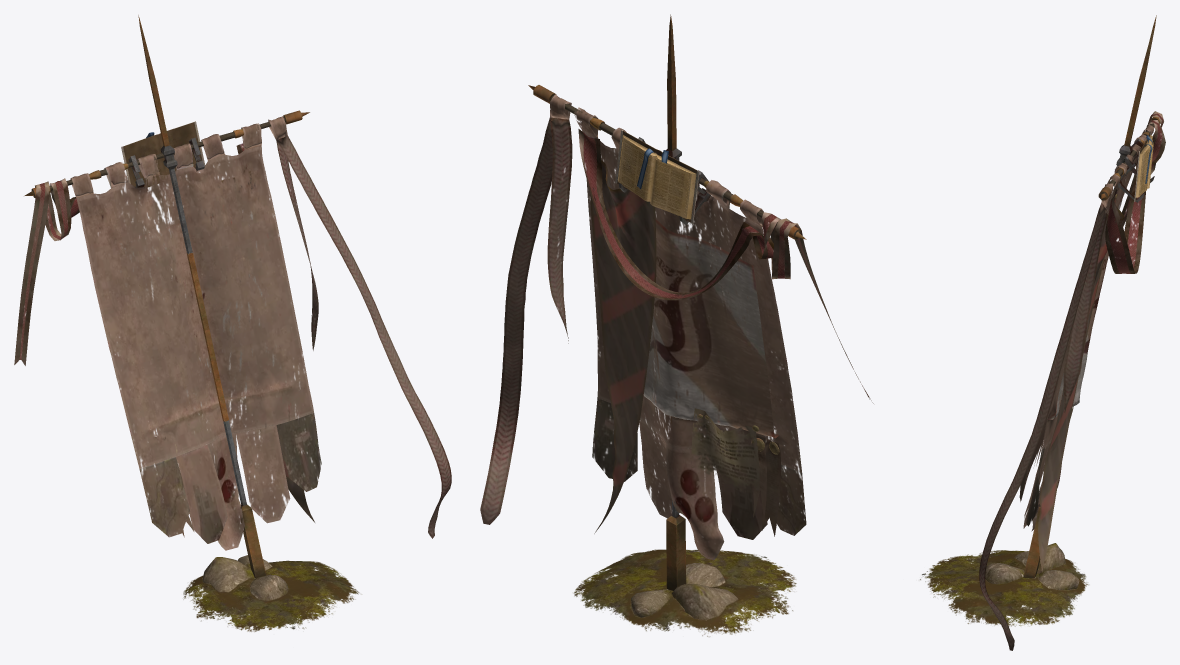
File: warbanner.glb
3 views of the same model, side by side, from view 1: azimuth 30°, elevation 25°; view 2: azimuth 150°, elevation 25°; view 3: azimuth 270°, elevation 25° (orthographic). The views are drawn at different scales.
Parts seen in each view (by area): view 1: Ghost_of_WAR_Seal006_Ghost_of_WAR_Pole_Cloth_MAT_0, Base_Dirt_Ghost_of_WAR_Base_MAT_0, Ghost_of_WAR_Pole_Ghost_of_WAR_Pole_MAT_0, Ghost_of_WAR_Book_Book_MAT_0; view 2: Ghost_of_WAR_Seal006_Ghost_of_WAR_Pole_Cloth_MAT_0, Base_Dirt_Ghost_of_WAR_Base_MAT_0, Ghost_of_WAR_Book_Book_MAT_0, Ghost_of_WAR_Pole_Ghost_of_WAR_Pole_MAT_0; view 3: Ghost_of_WAR_Seal006_Ghost_of_WAR_Pole_Cloth_MAT_0, Base_Dirt_Ghost_of_WAR_Base_MAT_0, Ghost_of_WAR_Pole_Ghost_of_WAR_Pole_MAT_0, Ghost_of_WAR_Book_Book_MAT_0.
Part boxes in pixels (box(x1,y1,x2,y2)): Ghost_of_WAR_Seal006_Ghost_of_WAR_Pole_Cloth_MAT_0: box(14, 116, 451, 550); Base_Dirt_Ghost_of_WAR_Base_MAT_0: box(183, 555, 361, 631); Ghost_of_WAR_Pole_Ghost_of_WAR_Pole_MAT_0: box(24, 15, 309, 578); Ghost_of_WAR_Book_Book_MAT_0: box(121, 121, 205, 187); Ghost_of_WAR_Seal006_Ghost_of_WAR_Pole_Cloth_MAT_0: box(480, 94, 873, 560); Base_Dirt_Ghost_of_WAR_Base_MAT_0: box(574, 549, 796, 636); Ghost_of_WAR_Book_Book_MAT_0: box(615, 130, 699, 223); Ghost_of_WAR_Pole_Ghost_of_WAR_Pole_MAT_0: box(528, 14, 806, 590); Ghost_of_WAR_Seal006_Ghost_of_WAR_Pole_Cloth_MAT_0: box(979, 111, 1165, 650); Base_Dirt_Ghost_of_WAR_Base_MAT_0: box(920, 543, 1088, 626); Ghost_of_WAR_Pole_Ghost_of_WAR_Pole_MAT_0: box(1023, 15, 1160, 578); Ghost_of_WAR_Book_Book_MAT_0: box(1134, 130, 1153, 201).
Bounding box in the file's own units: 83.08 × 116 × 50.33.
4 materials, 4 textured.
